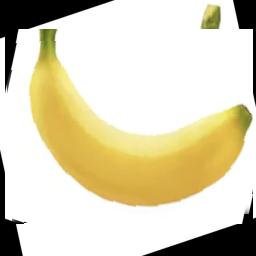Banana Fresh: (5, 29, 253, 224)
